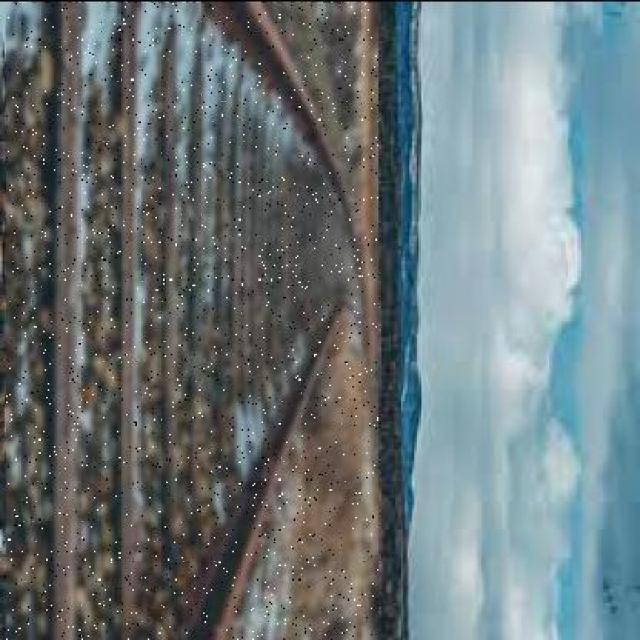rail: (6, 2, 378, 640)
